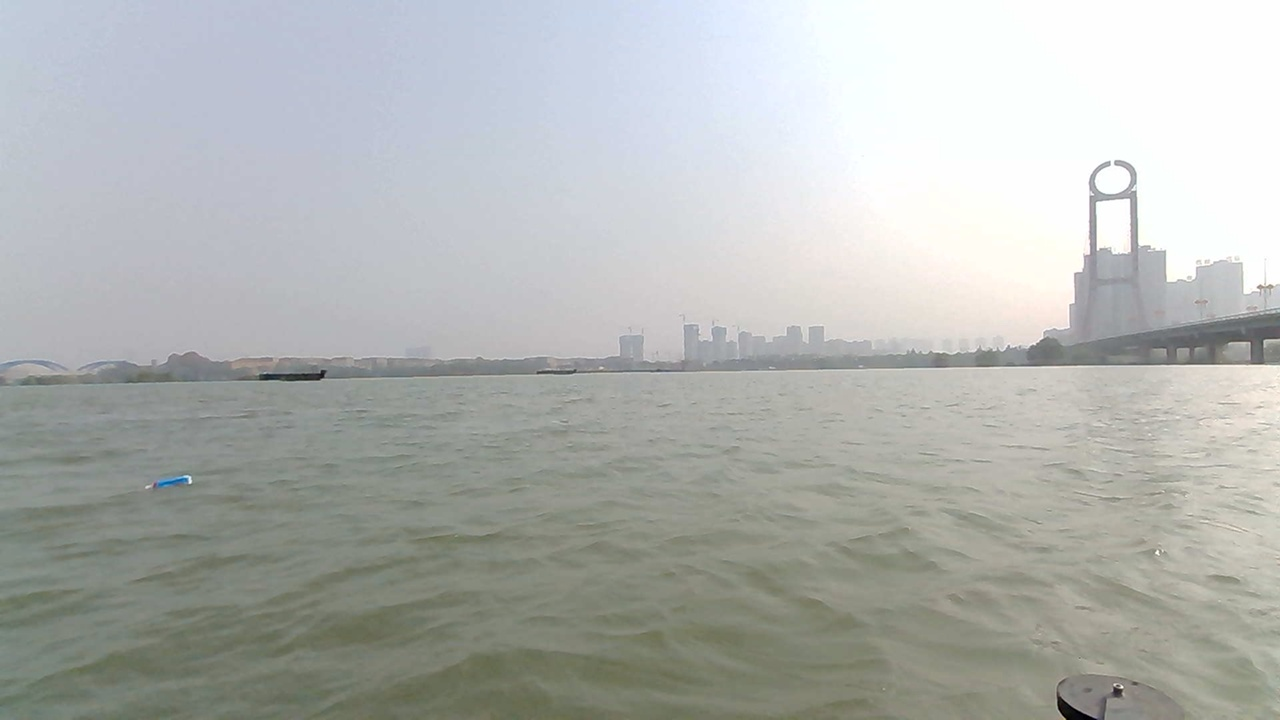bottle: (141, 470, 201, 499)
